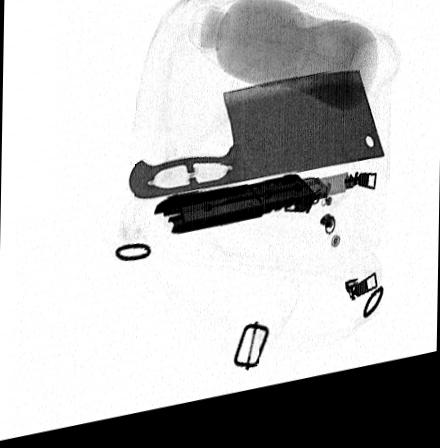Knife: (126, 85, 384, 207), (152, 186, 347, 243)
